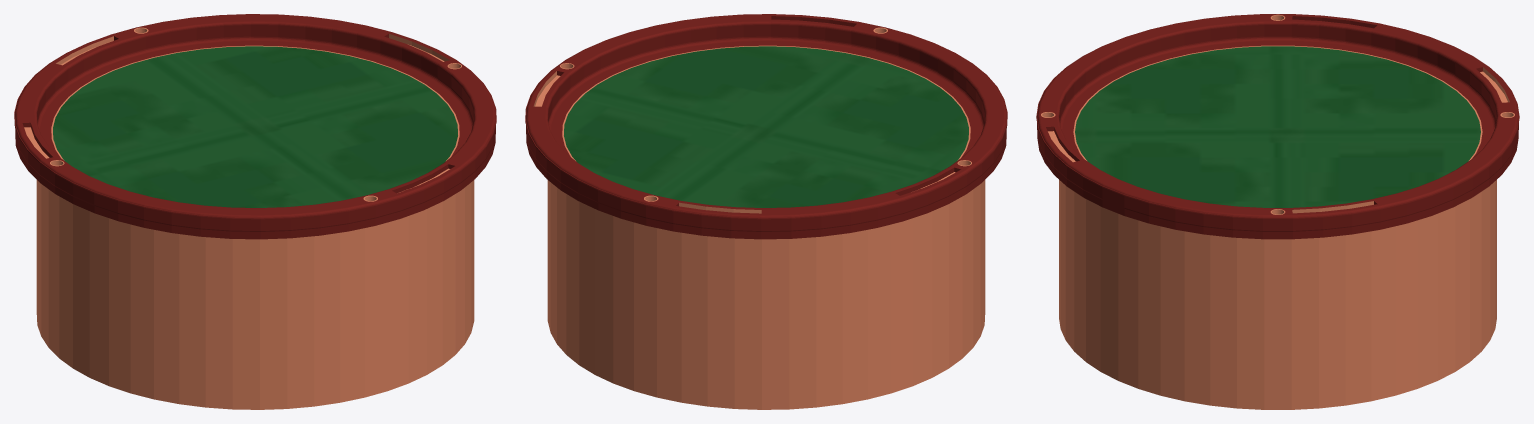
The model's file is table.fbx.
The picture shows the model from 3 angles, left to right: view 1: azimuth 30°, elevation 25°; view 2: azimuth 150°, elevation 25°; view 3: azimuth 270°, elevation 25°; orthographic projection.
Visible parts, largest first — view 1: Cylinder; view 2: Cylinder; view 3: Cylinder.
Boxes of the visible parts, left/top/right/bottom form: Cylinder: left=14, top=14, right=496, bottom=409; Cylinder: left=525, top=14, right=1007, bottom=409; Cylinder: left=1036, top=14, right=1519, bottom=409.
Bounding box in the file's own units: 9840 × 4565 × 9859.
Materials: 3 (1 with a texture image).
